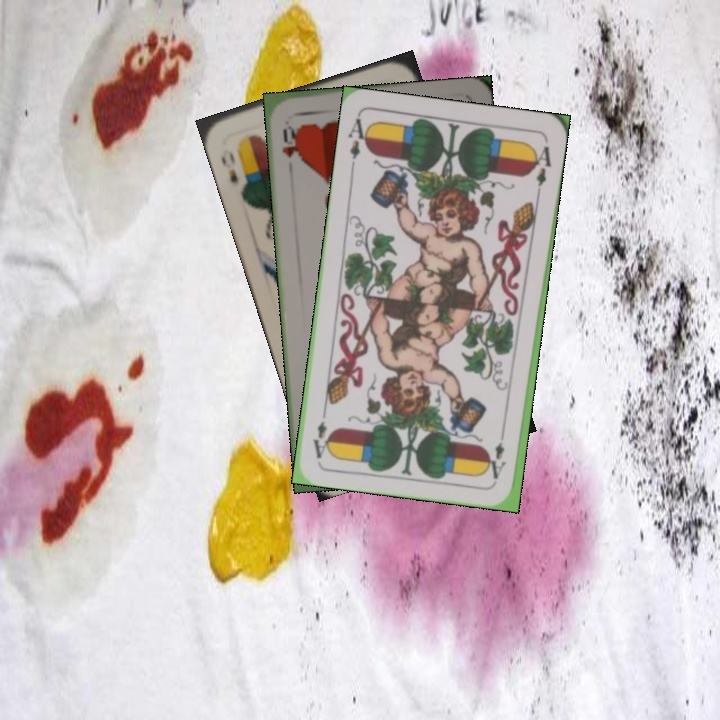EA: (344, 114, 373, 172), (488, 424, 509, 482)
EO: (216, 147, 241, 188)
HO: (278, 121, 302, 161)
